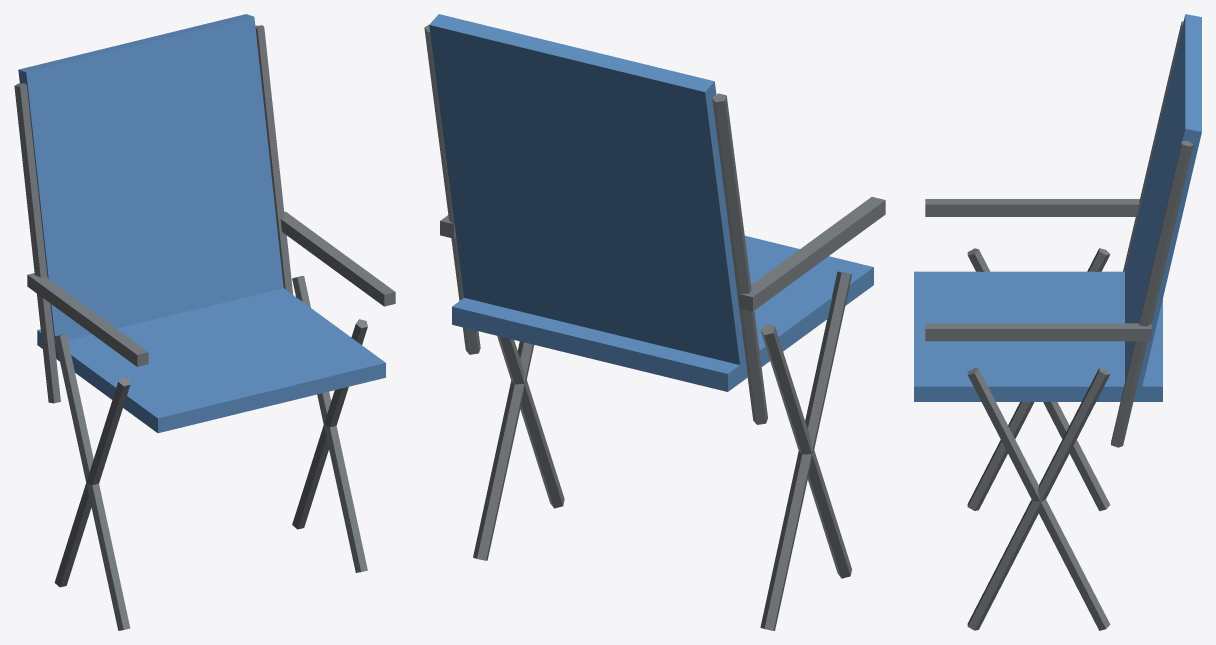
Rendered from SM_CampChair.fbx.
The picture shows the model from 3 angles, left to right: view 1: azimuth 30°, elevation 25°; view 2: azimuth 150°, elevation 25°; view 3: azimuth 270°, elevation 25°; orthographic projection. The views are drawn at different scales.
Parts seen in each view (by area): view 1: SM_CampChair; view 2: SM_CampChair; view 3: SM_CampChair.
Boxes of the visible parts, box(x1,y1,x2,y2) form: SM_CampChair: box(14, 14, 395, 630); SM_CampChair: box(424, 14, 885, 630); SM_CampChair: box(914, 14, 1201, 630).
Bounding box in the file's own units: 0.544 × 0.9717 × 0.5087.
